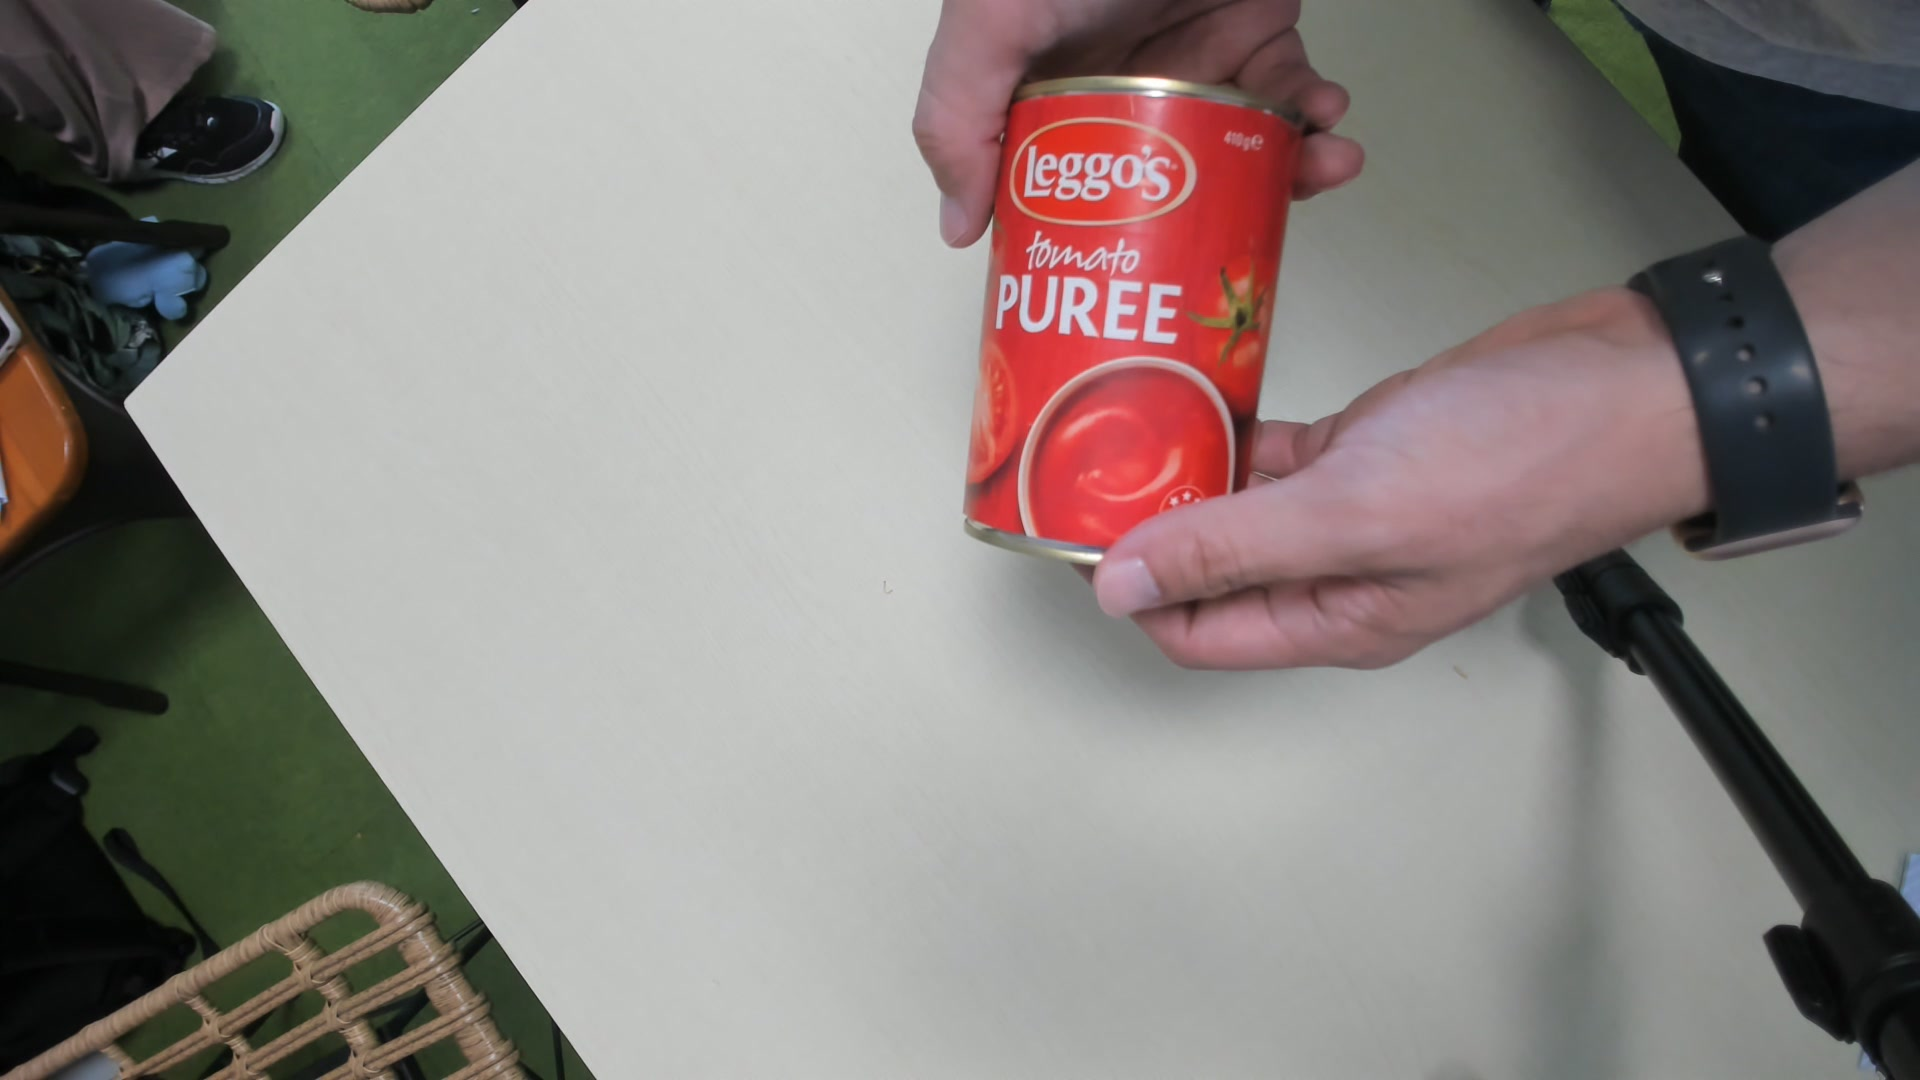OtherSauceDressingSoupbasePaste_400-499g_Halal_NonHealthy: (961, 69, 1298, 582)
